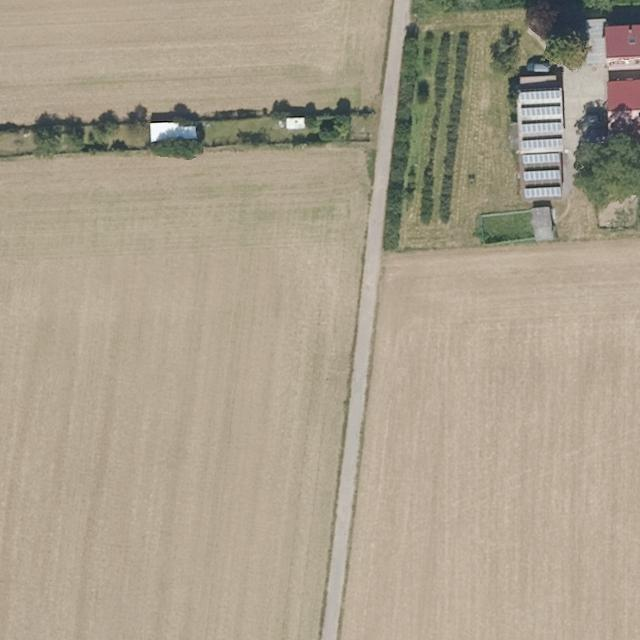PV: (513, 87, 566, 201)
